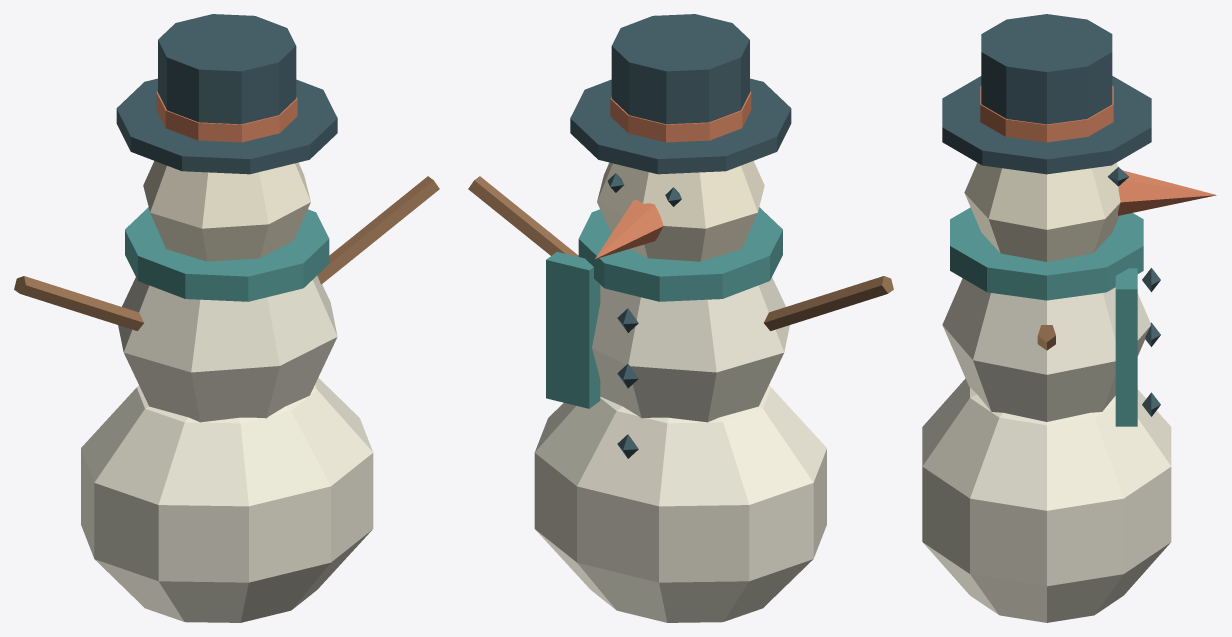
Rendered from snowman.glb.
3 renders of one model, left to right at view 1: azimuth 30°, elevation 25°; view 2: azimuth 150°, elevation 25°; view 3: azimuth 270°, elevation 25°, orthographic.
Visible parts, largest first — view 1: snowman; view 2: snowman; view 3: snowman.
Boxes of the visible parts, x1,y1,x2,y2 form: snowman: (14,14,439,622); snowman: (468,14,893,622); snowman: (922,14,1216,622).
Bounding box in the file's own units: 1.75 × 2.26 × 1.07.
